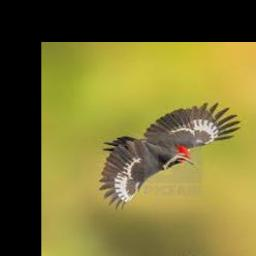Woodpecker: (98, 102, 242, 210)
